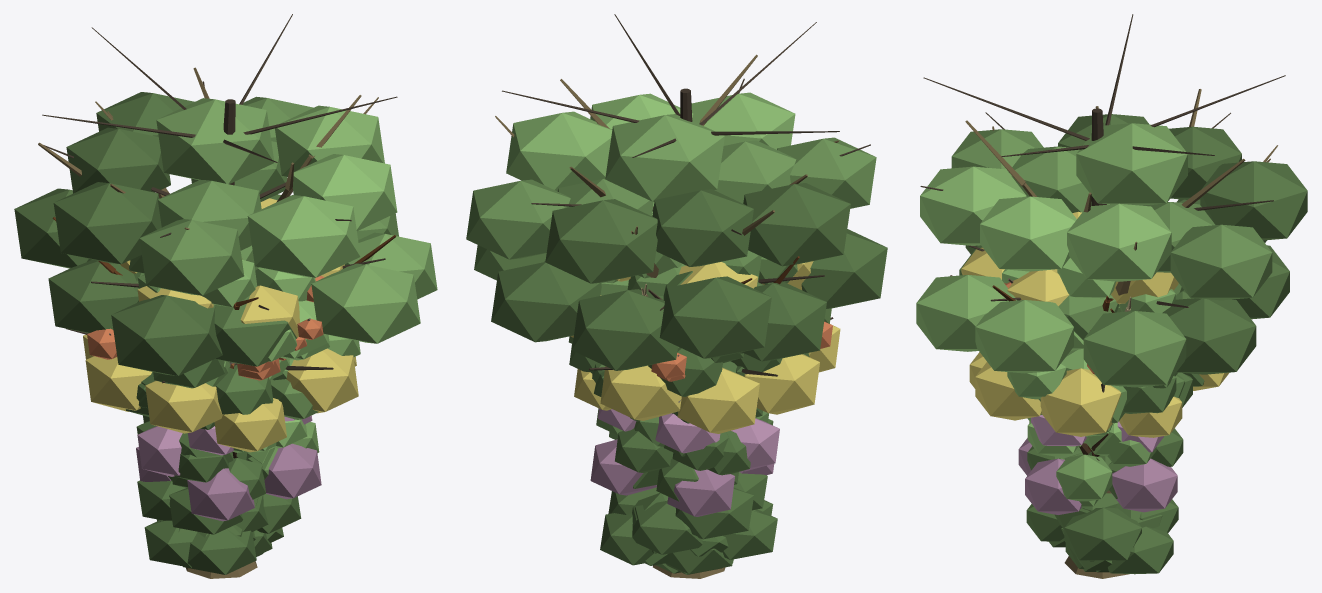
File: trees-mata-atlantica.glb
3 views of the same model, side by side, from view 1: azimuth 30°, elevation 25°; view 2: azimuth 150°, elevation 25°; view 3: azimuth 270°, elevation 25° (orthographic). The views are drawn at different scales.
Visible parts, largest first — view 1: jequitiba, pau-brasil-flowering, bush-mata-atlantica-head-b, manaca-flowering, pau-brasil, manaca, araucaria-dead, mulungu-flowering, jequitiba-dead, mulungu; view 2: jequitiba, pau-brasil-flowering, bush-mata-atlantica-head-b, manaca-flowering, manaca, pau-brasil, araucaria-dead, jequitiba-dead, mulungu, mulungu-flowering, bush-mata-atlantica-waist-b; view 3: jequitiba, pau-brasil-flowering, manaca-flowering, bush-mata-atlantica-head-b, manaca, pau-brasil, araucaria-dead, jequitiba-dead, bush-mata-atlantica-head-a, mulungu.
Boxes of the visible parts, bbox=[...] form: jequitiba: bbox=[14, 92, 437, 375]; pau-brasil-flowering: bbox=[83, 198, 358, 452]; bush-mata-atlantica-head-b: bbox=[137, 480, 301, 574]; manaca-flowering: bbox=[136, 415, 321, 521]; pau-brasil: bbox=[129, 255, 360, 419]; manaca: bbox=[136, 419, 319, 499]; araucaria-dead: bbox=[42, 14, 397, 383]; mulungu-flowering: bbox=[87, 275, 324, 380]; jequitiba-dead: bbox=[38, 67, 378, 578]; mulungu: bbox=[138, 359, 289, 429]; jequitiba: bbox=[466, 92, 887, 370]; pau-brasil-flowering: bbox=[569, 261, 840, 433]; bush-mata-atlantica-head-b: bbox=[600, 472, 777, 573]; manaca-flowering: bbox=[590, 408, 779, 516]; manaca: bbox=[596, 408, 773, 501]; pau-brasil: bbox=[568, 202, 831, 402]; araucaria-dead: bbox=[502, 14, 870, 376]; jequitiba-dead: bbox=[495, 54, 838, 578]; mulungu: bbox=[592, 346, 809, 423]; mulungu-flowering: bbox=[651, 321, 832, 381]; bush-mata-atlantica-waist-b: bbox=[645, 536, 728, 574]; jequitiba: bbox=[916, 114, 1307, 387]; pau-brasil-flowering: bbox=[961, 211, 1229, 437]; manaca-flowering: bbox=[1018, 415, 1177, 514]; bush-mata-atlantica-head-b: bbox=[1026, 499, 1178, 574]; manaca: bbox=[1027, 418, 1183, 501]; pau-brasil: bbox=[1002, 204, 1194, 423]; araucaria-dead: bbox=[920, 14, 1285, 451]; jequitiba-dead: bbox=[965, 89, 1277, 578]; bush-mata-atlantica-head-a: bbox=[1082, 493, 1162, 561]; mulungu: bbox=[1062, 348, 1184, 431].
Size of the model in its own units: 6.97 by 9 by 6.78.
